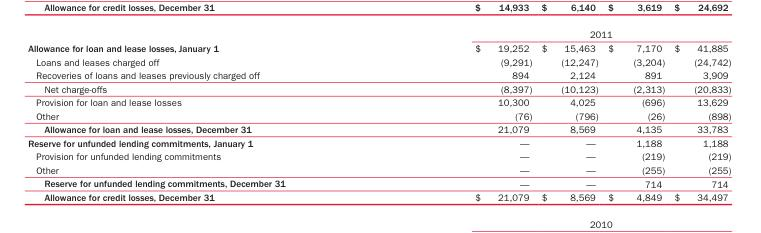table: (27, 28, 730, 202)
table column: (27, 28, 379, 202), (379, 28, 536, 202), (536, 28, 602, 202), (602, 28, 668, 202), (668, 28, 730, 202)
table column header: (27, 28, 730, 54)
table row: (27, 40, 730, 54), (27, 54, 730, 68), (27, 81, 730, 95), (27, 108, 730, 122), (27, 135, 730, 149), (27, 162, 730, 176), (27, 68, 730, 81), (27, 95, 730, 108), (27, 122, 730, 135), (27, 149, 730, 162), (27, 176, 730, 189), (27, 189, 730, 202), (27, 28, 730, 40)
table spanning cell: (27, 28, 379, 54), (379, 28, 730, 40)
